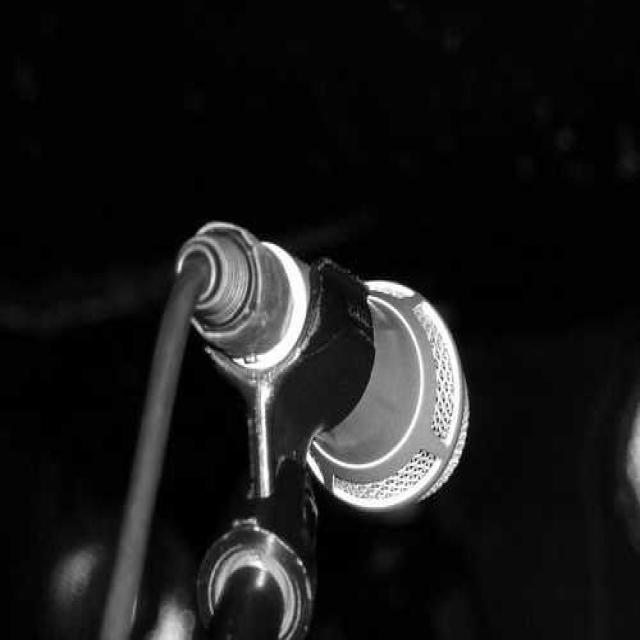microphone: (167, 218, 473, 638)
